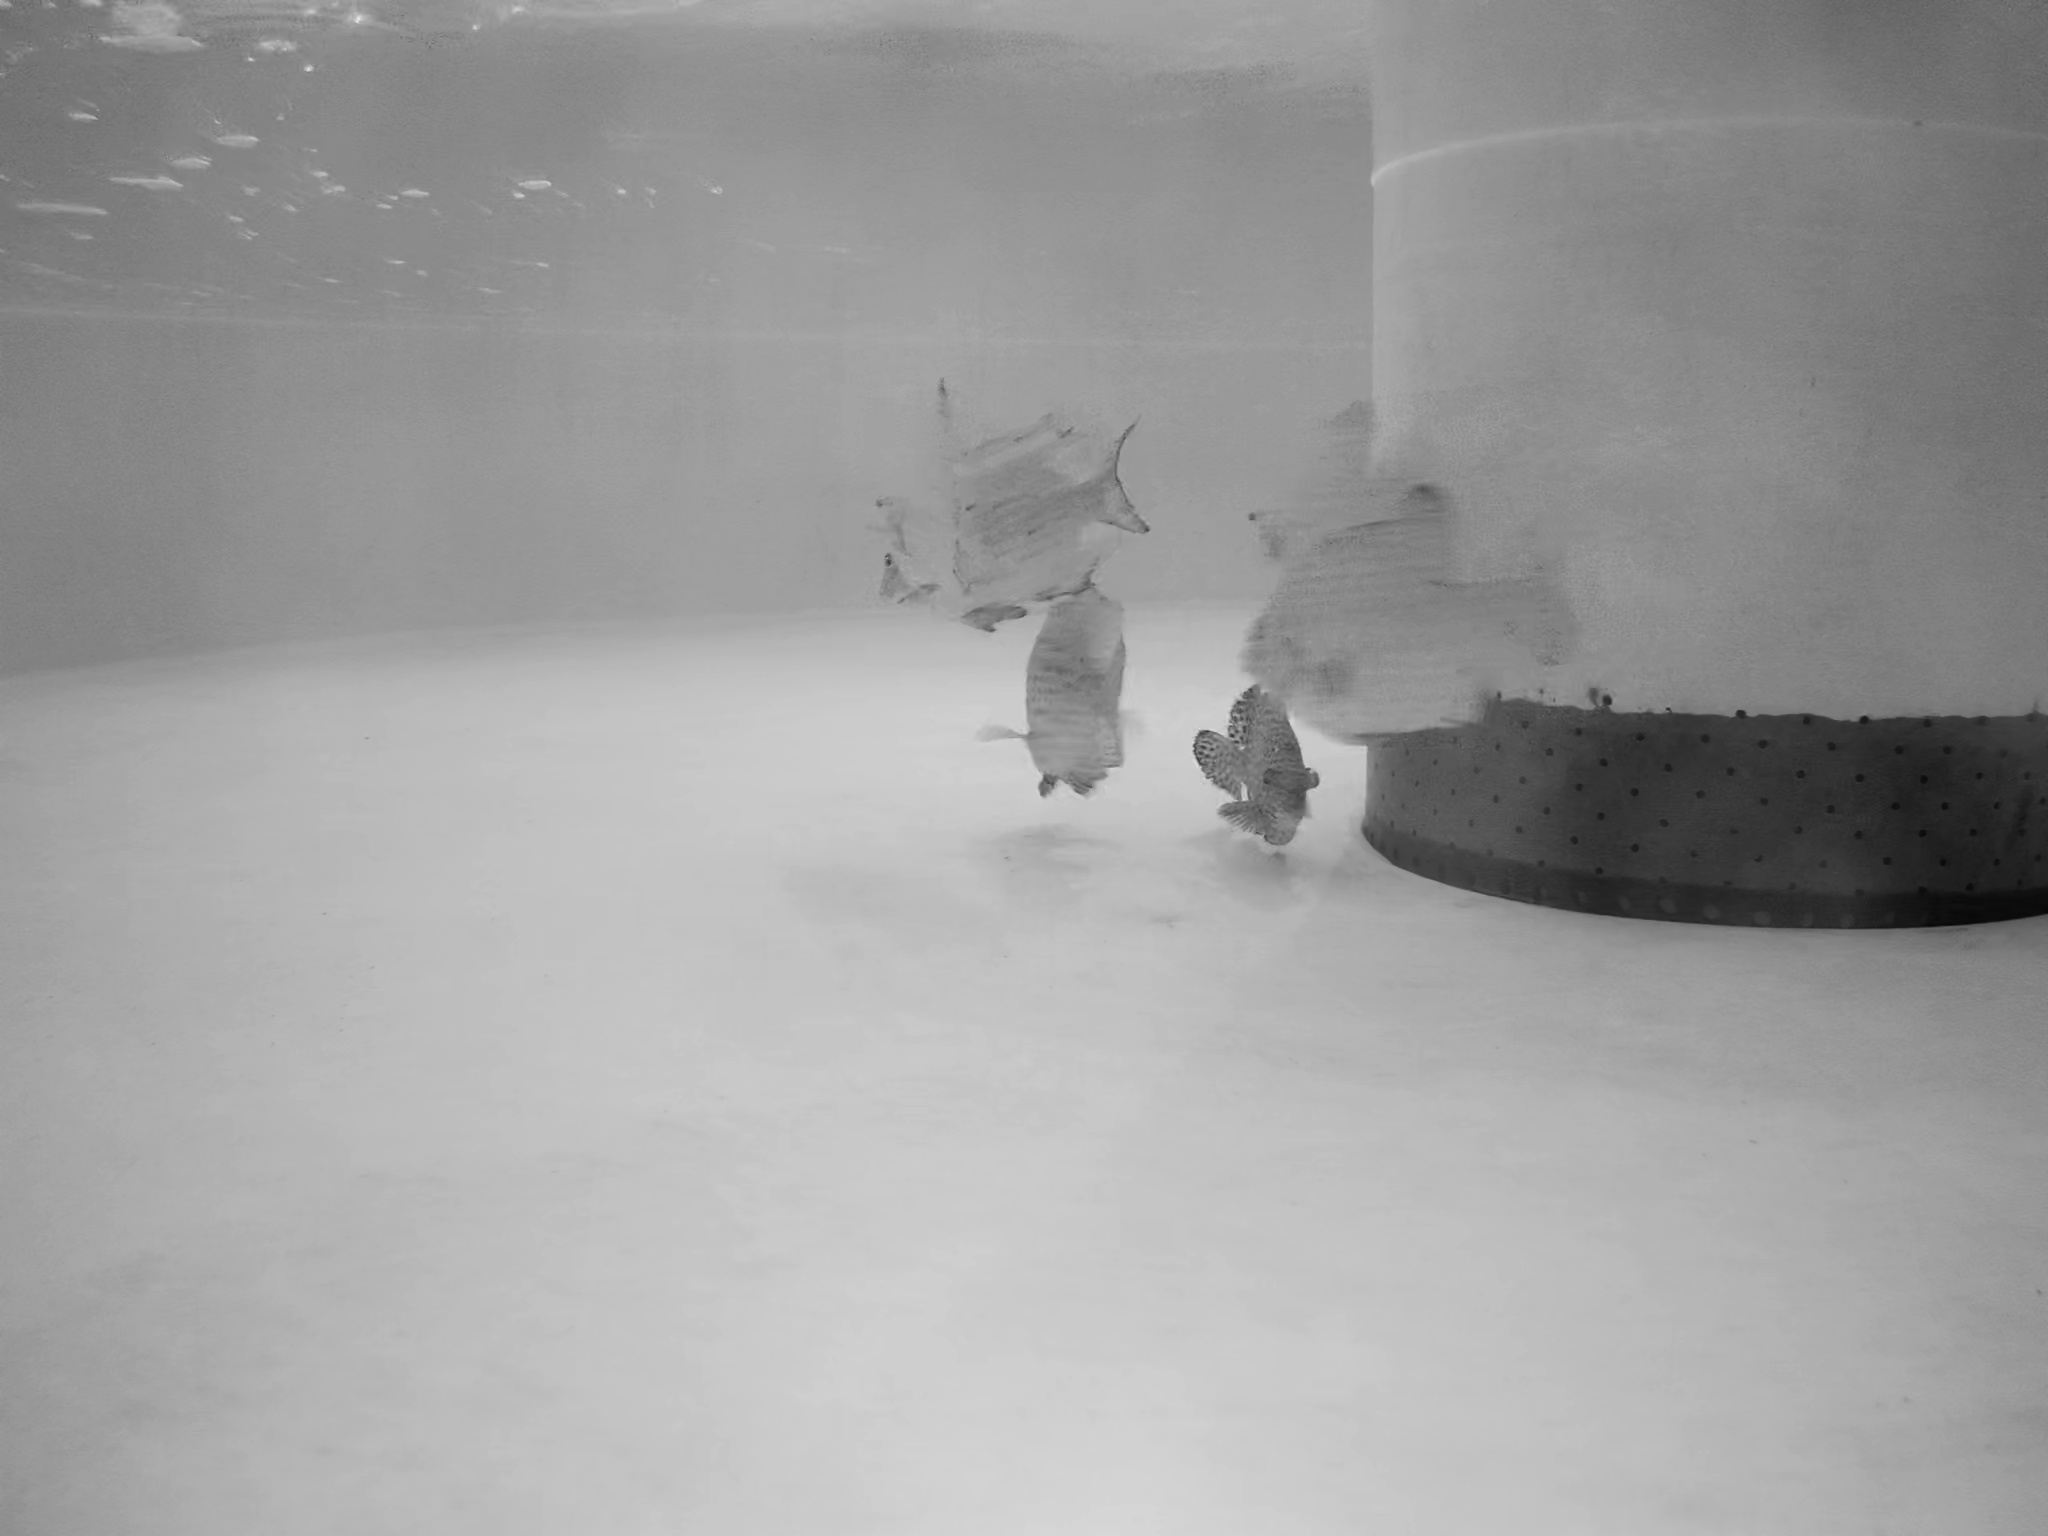fish: (1208, 490, 1590, 755), (864, 429, 1155, 568), (1006, 566, 1151, 813), (1250, 395, 1429, 560), (1193, 671, 1313, 852), (880, 516, 1106, 607)
